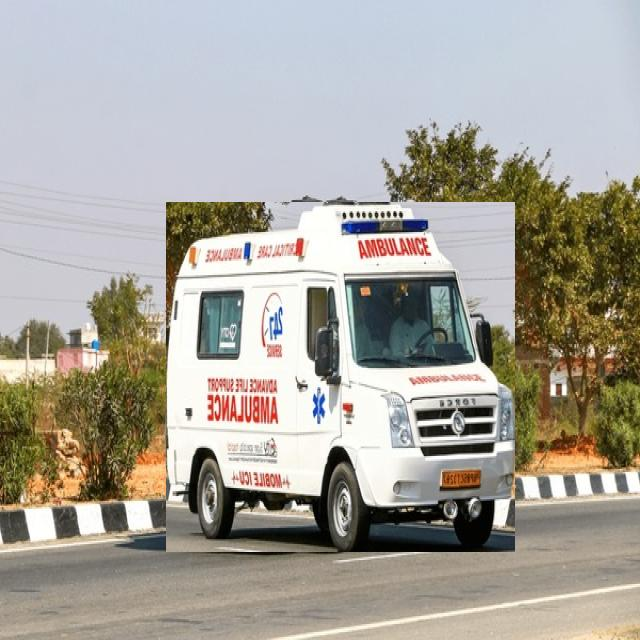emergency: (166, 203, 515, 552)
